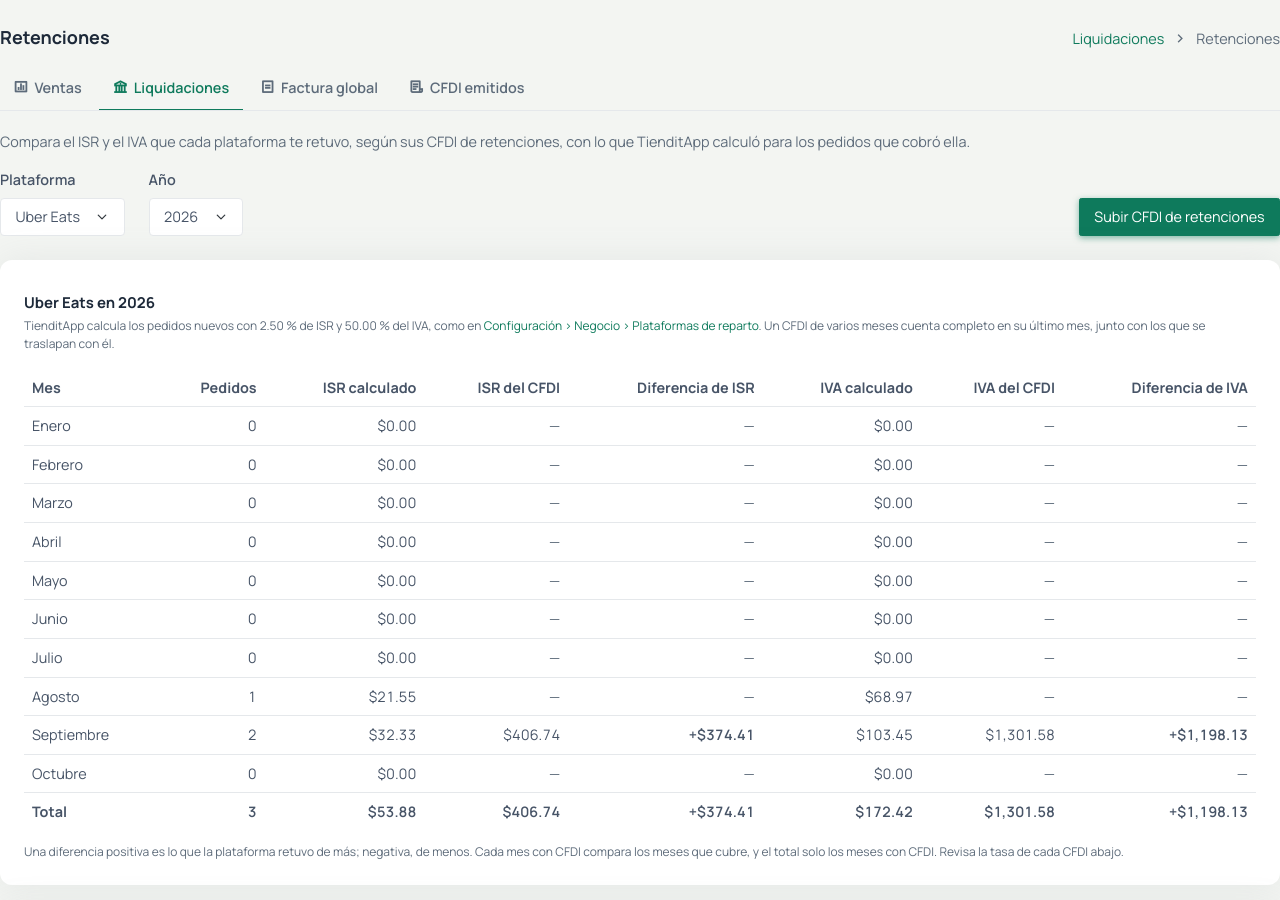
it: PlatformWithholdings › opens the upload from its button, and says when the list does not bring every CFDI
Click the button "Subir CFDI de retenciones" at (1179, 217), box [1079,198,1279,236]
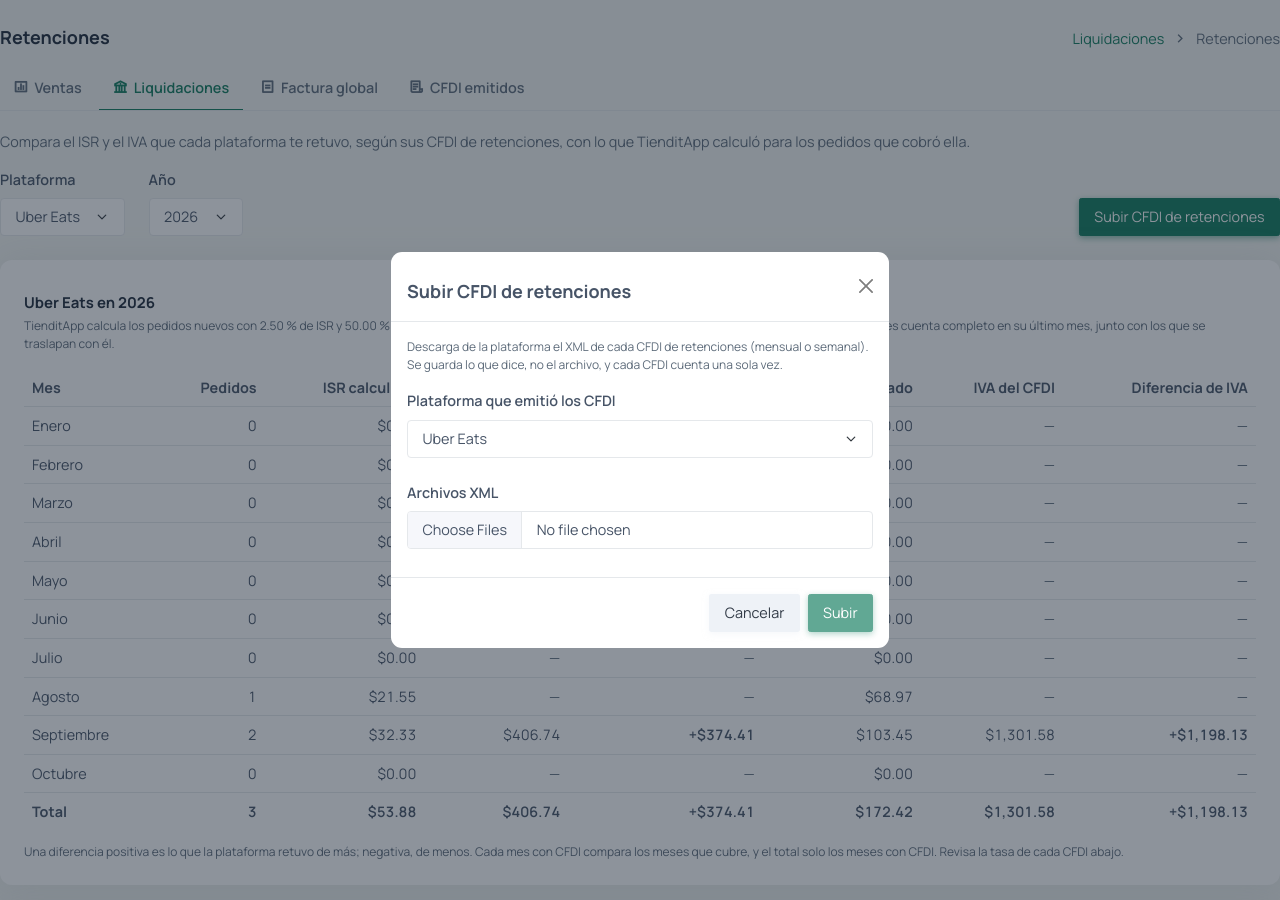
Now the dialog "Subir CFDI de retenciones" is shown, box [390,251,890,649]
